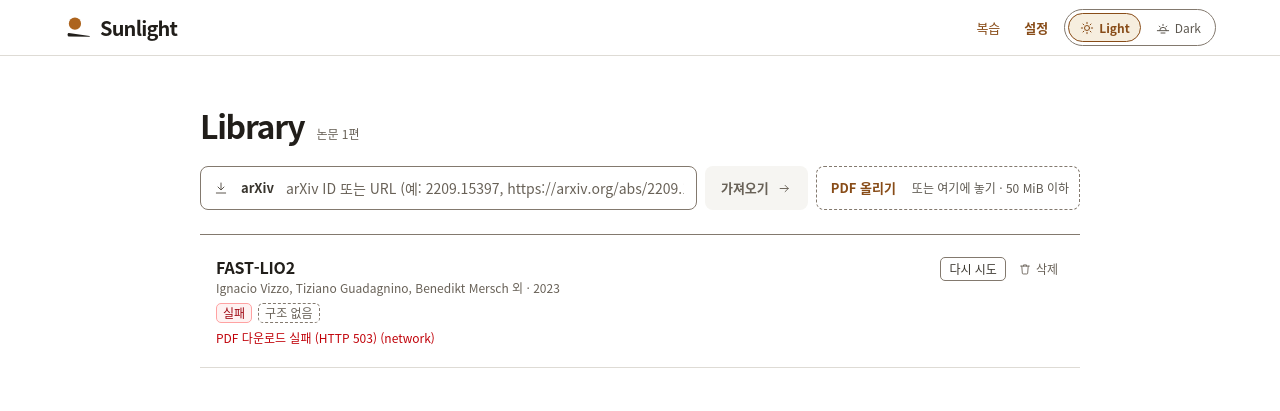
LibraryPage › failed paper: shows lastJob.error and retries (re-subscribes to the new job)
The image size is (1280, 411).
Expected: the text with test id "paper-error" reads "PDF 다운로드 실패 (HTTP 503) (network)", x1=216 y1=329 x2=435 y2=346
Expected: the text with test id "paper-status" reads "실패", x1=223 y1=304 x2=245 y2=321
Click the button with test id "paper-retry". click: [973, 269]
box: x1=940 y1=257 x2=1006 y2=281
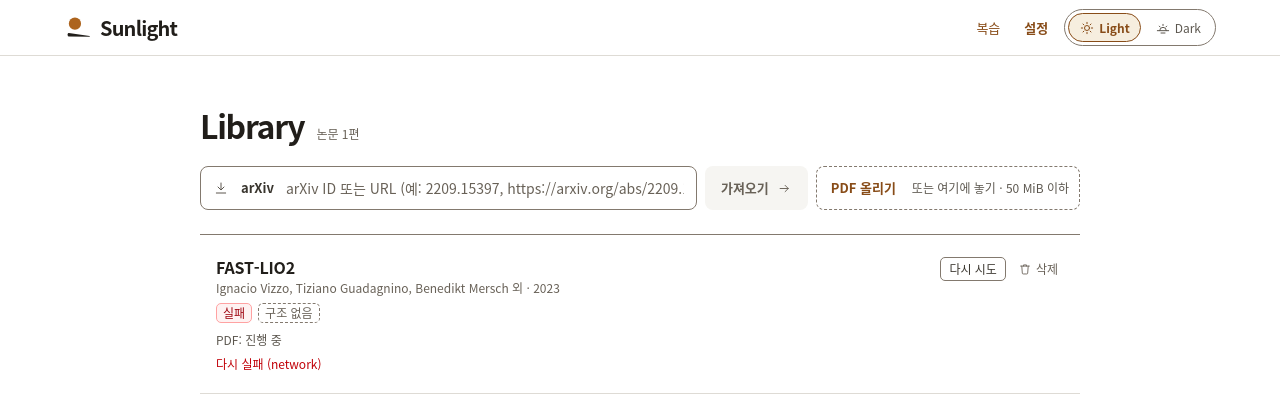
Expected: the text with test id "paper-error" reads "다시 실패 (network)", x1=216 y1=355 x2=322 y2=372
